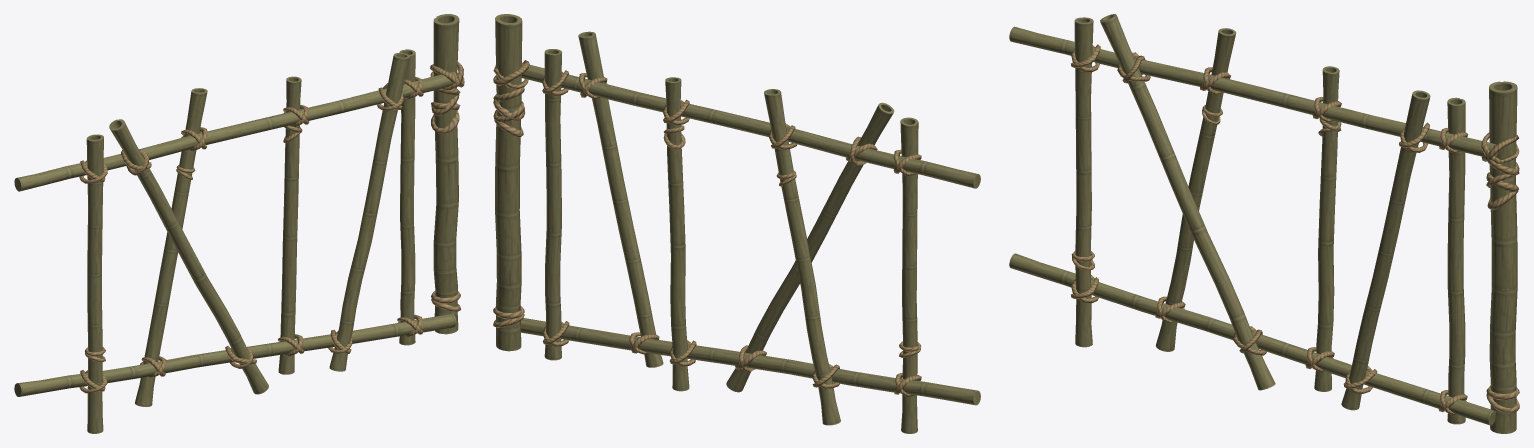
Rendered from SM_EastLands_BambooFence_A_03.fbx.
3 views of the same model, side by side, from view 1: azimuth 30°, elevation 25°; view 2: azimuth 150°, elevation 25°; view 3: azimuth 330°, elevation 25° (orthographic). The views are drawn at different scales.
Visible parts, largest first — view 1: SM_EastLands_BambooFence_A_03_LOD0; view 2: SM_EastLands_BambooFence_A_03_LOD0; view 3: SM_EastLands_BambooFence_A_03_LOD0.
Boxes of the visible parts, x1,y1,x2,y2 form: SM_EastLands_BambooFence_A_03_LOD0: [14, 14, 464, 433]; SM_EastLands_BambooFence_A_03_LOD0: [493, 14, 980, 433]; SM_EastLands_BambooFence_A_03_LOD0: [1009, 14, 1519, 433].
Size of the model in its own units: 206 by 137 by 22.34.
